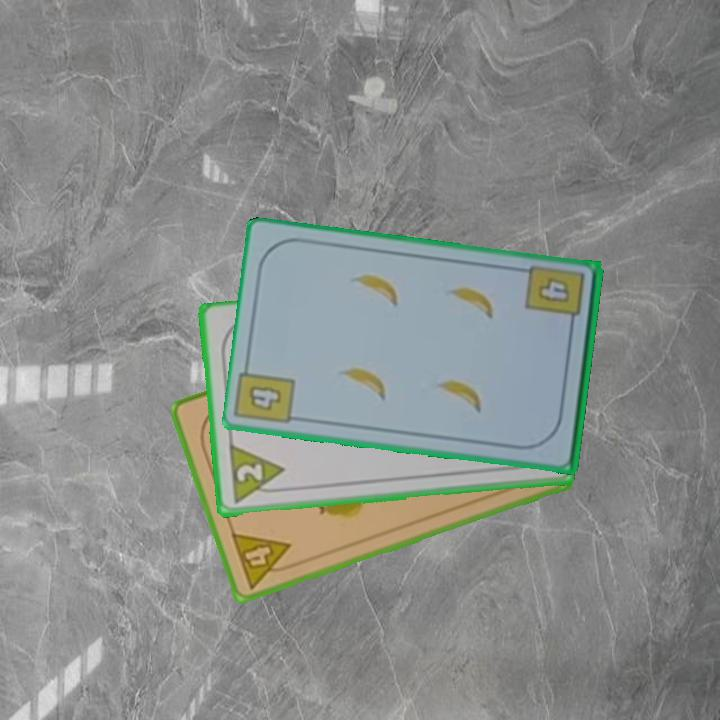2p: (225, 442, 289, 507)
4b: (523, 265, 587, 333), (244, 383, 284, 414)
4p: (227, 529, 300, 592)
